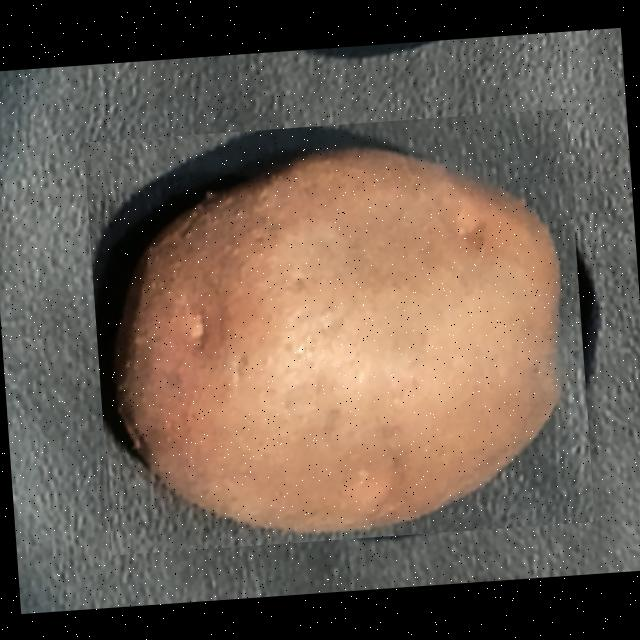Diseased-fungal potato: (82, 108, 594, 554)
